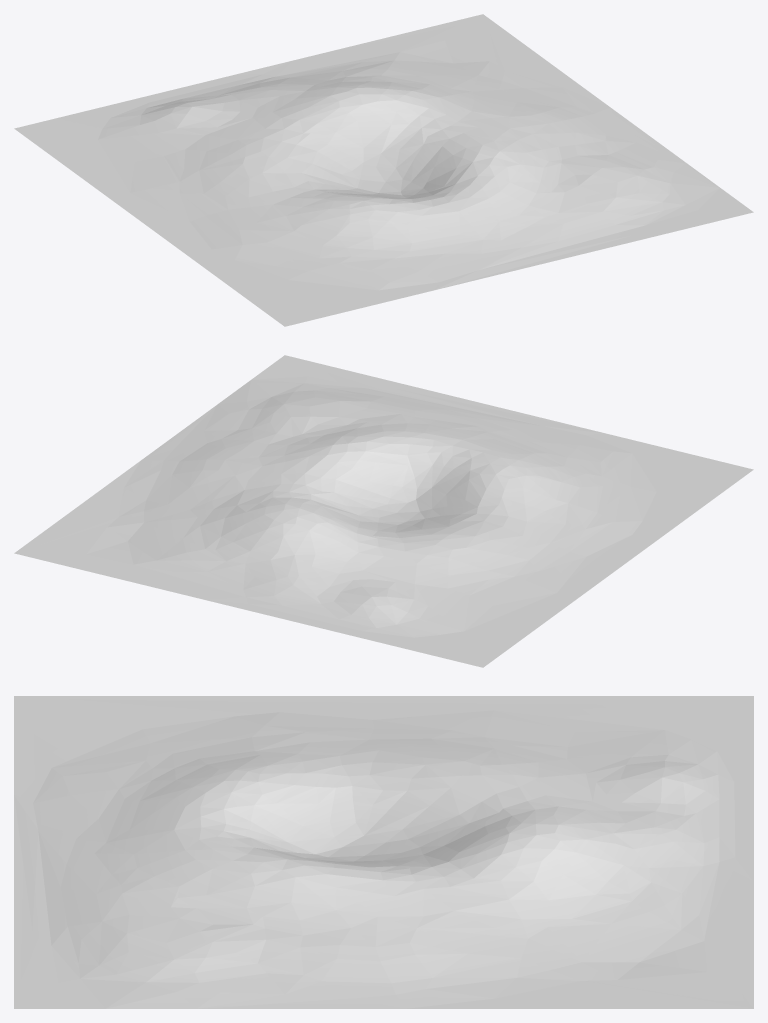
Rendered from Terrain_27.glb.
The picture shows the model from 3 angles, top to bottom: view 1: azimuth 30°, elevation 25°; view 2: azimuth 150°, elevation 25°; view 3: azimuth 270°, elevation 25°; orthographic projection. The views are drawn at different scales.
Parts seen in each view (by area): view 1: Terrain_27; view 2: Terrain_27; view 3: Terrain_27.
Boxes of the visible parts, x1,y1,x2,y2 form: Terrain_27: (14,14,753,326); Terrain_27: (14,355,753,667); Terrain_27: (14,696,753,1008).
Bounding box in the file's own units: 128 × 8.89 × 128.
Materials: 1 (1 with a texture image).
